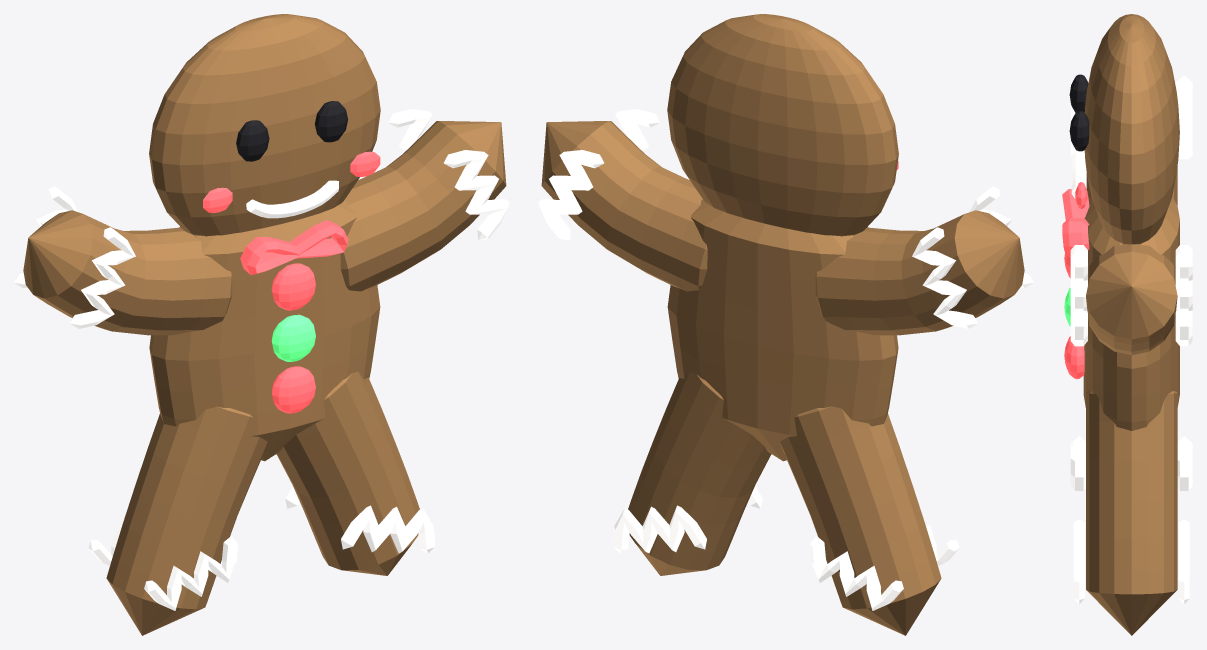
Rendered from Galleta.glb.
3 views of the same model, side by side, from view 1: azimuth 30°, elevation 25°; view 2: azimuth 150°, elevation 25°; view 3: azimuth 270°, elevation 25° (orthographic). The views are drawn at different scales.
Parts seen in each view (by area): view 1: Galleta; view 2: Galleta; view 3: Galleta.
Boxes of the visible parts, x1=… form: Galleta: x1=14, y1=14, x2=509, y2=635; Galleta: x1=538, y1=14, x2=1033, y2=635; Galleta: x1=1062, y1=14, x2=1192, y2=635.
Bounding box in the file's own units: 0.481 × 0.5706 × 0.122.
